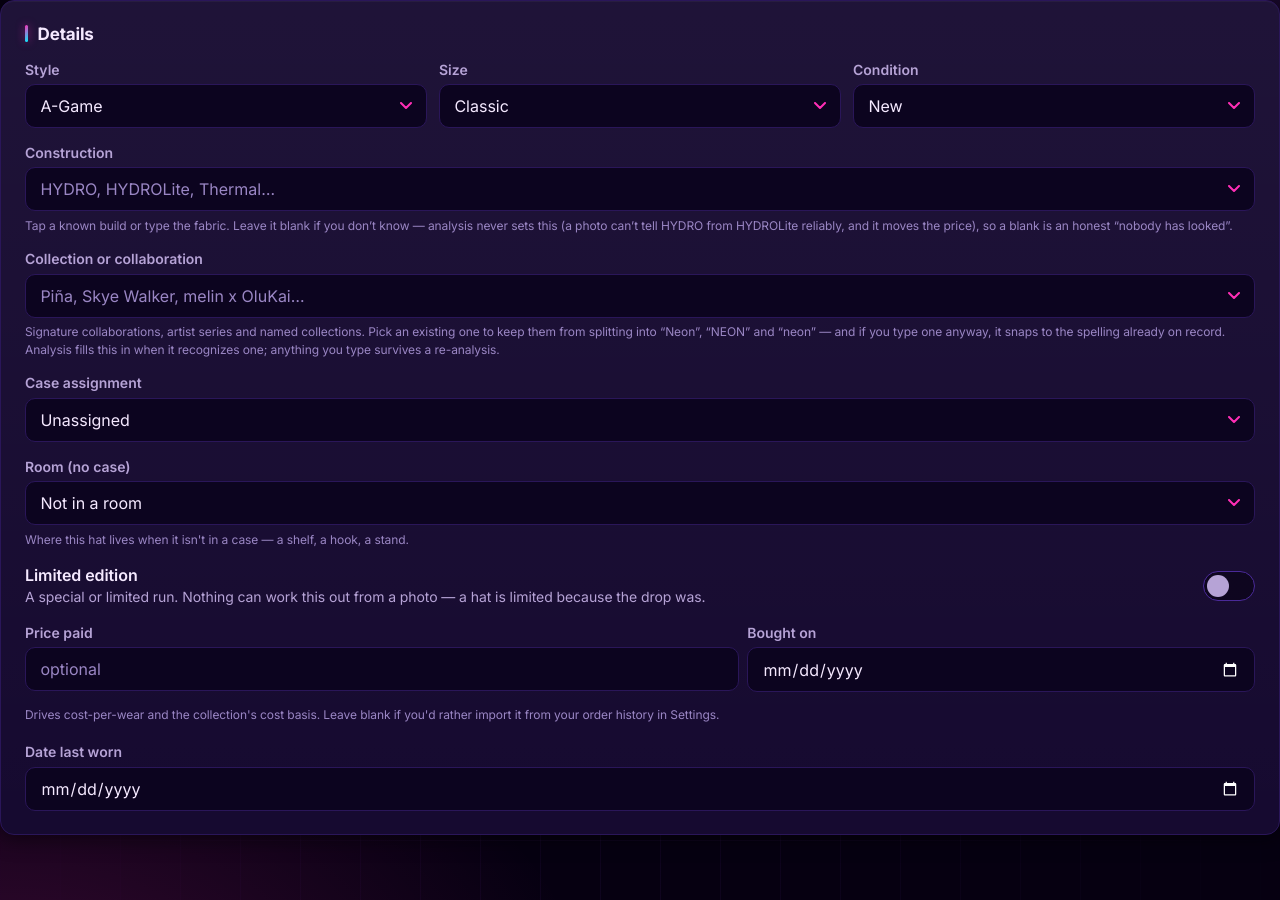
Test case: HatBasicsCard › filters as you type — the reason a 60-case wheel had to go
The image size is (1280, 900).
Click the dropdown labelled "Case assignment".
click(640, 420)  # box [25, 398, 1255, 442]
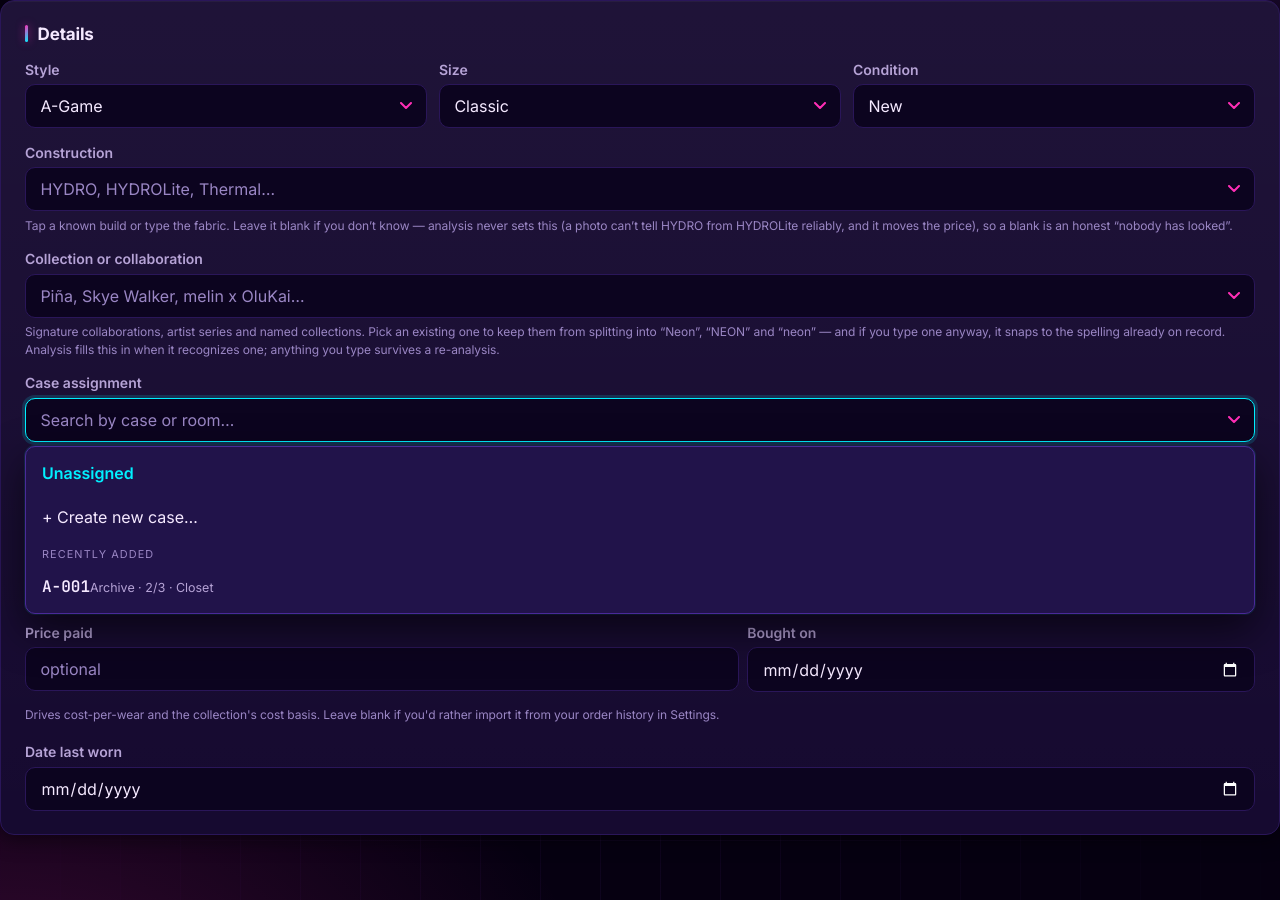
Now the option "A-001Archive · 2/3 · Closet" is shown, box [30, 565, 1250, 609]
# Room name, not just case id — "where is it" is how you actually think.
Type "closet" into the dropdown labelled "Case assignment".
click(640, 420); type("closet")  # box [25, 398, 1255, 442]
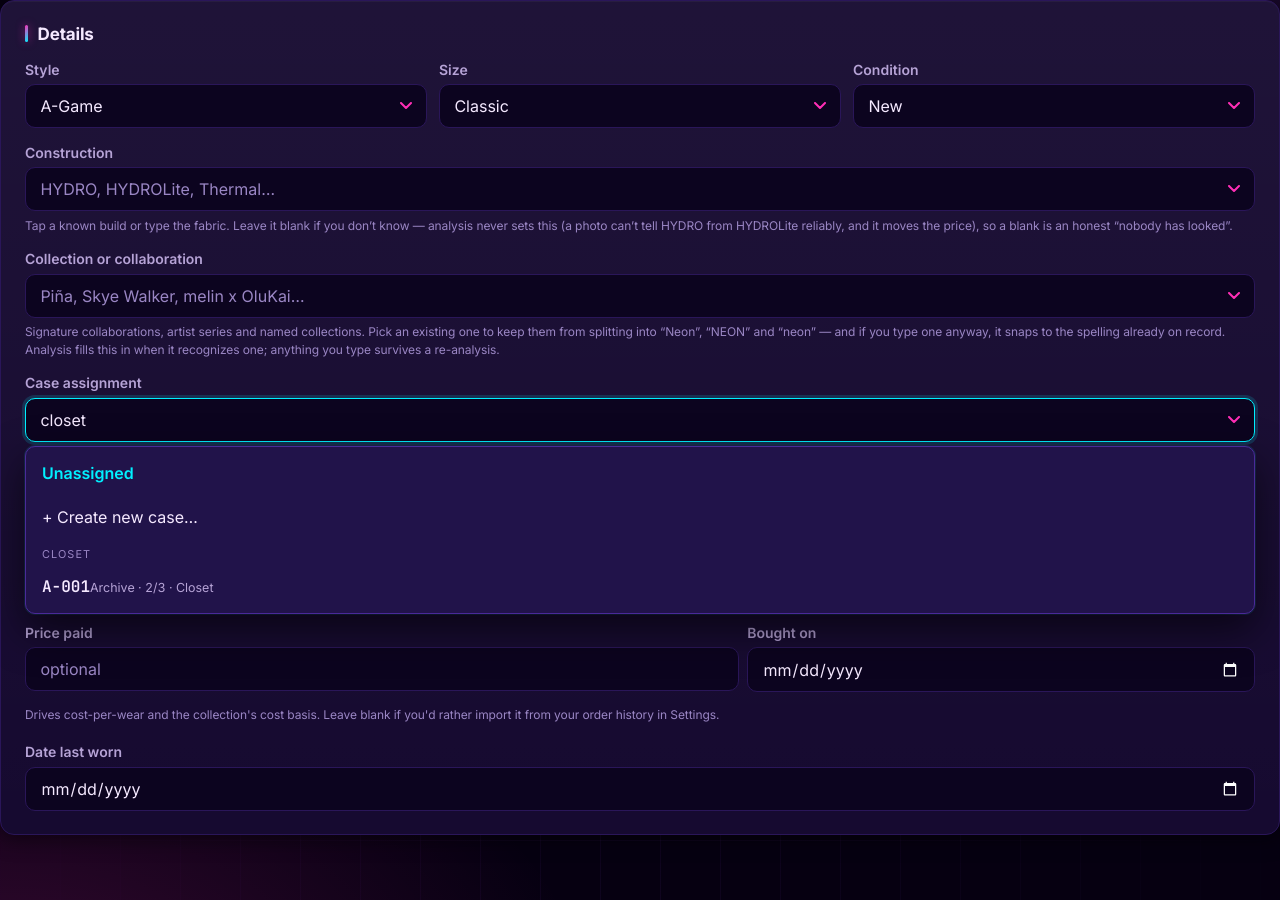
Now the option "A-001Archive · 2/3 · Closet" is shown, box [30, 565, 1250, 609]
Replace the text in the dropdown labelled "Case assignment" with "garage" at (640, 420), box [25, 398, 1255, 442]
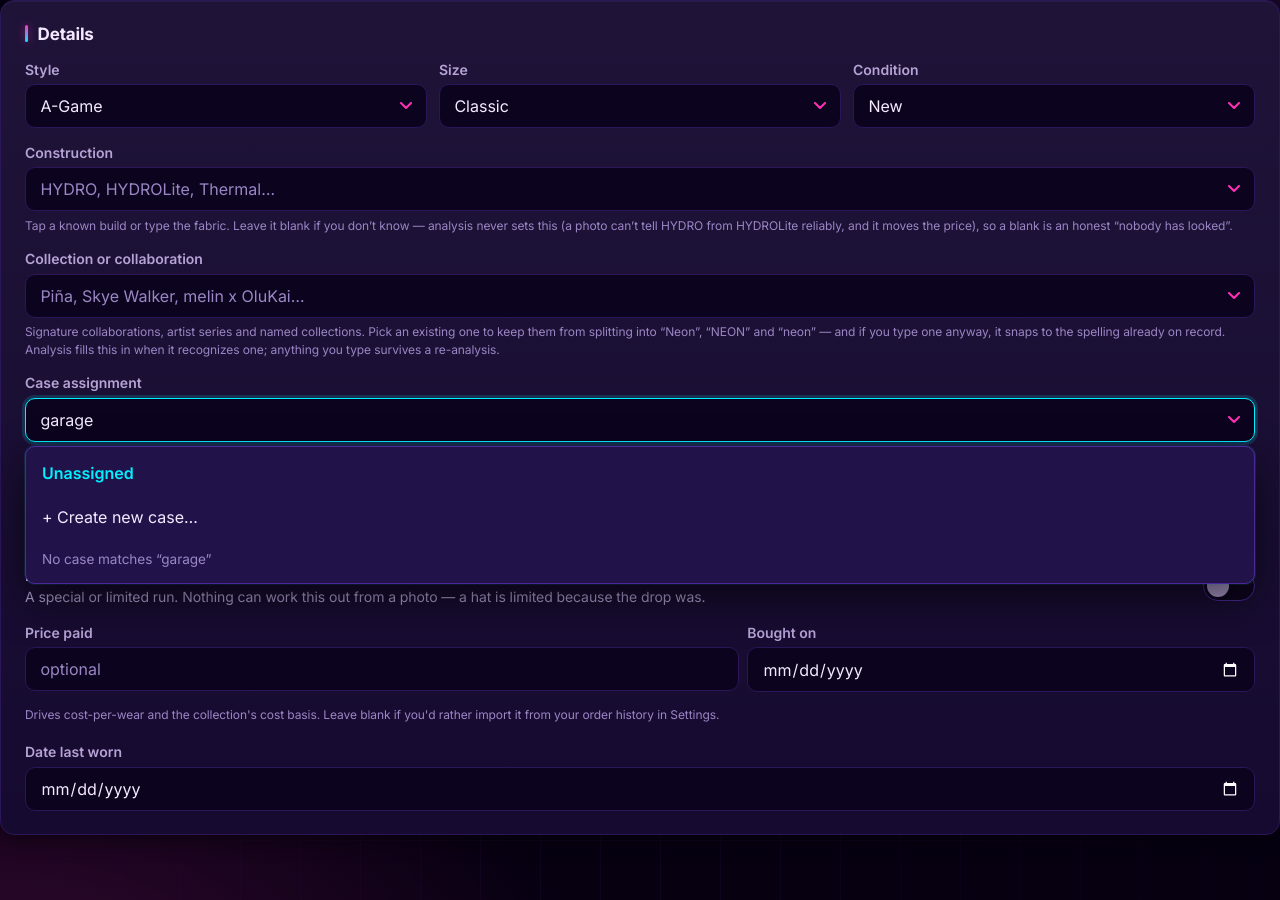
Now the option "A-001" is gone
